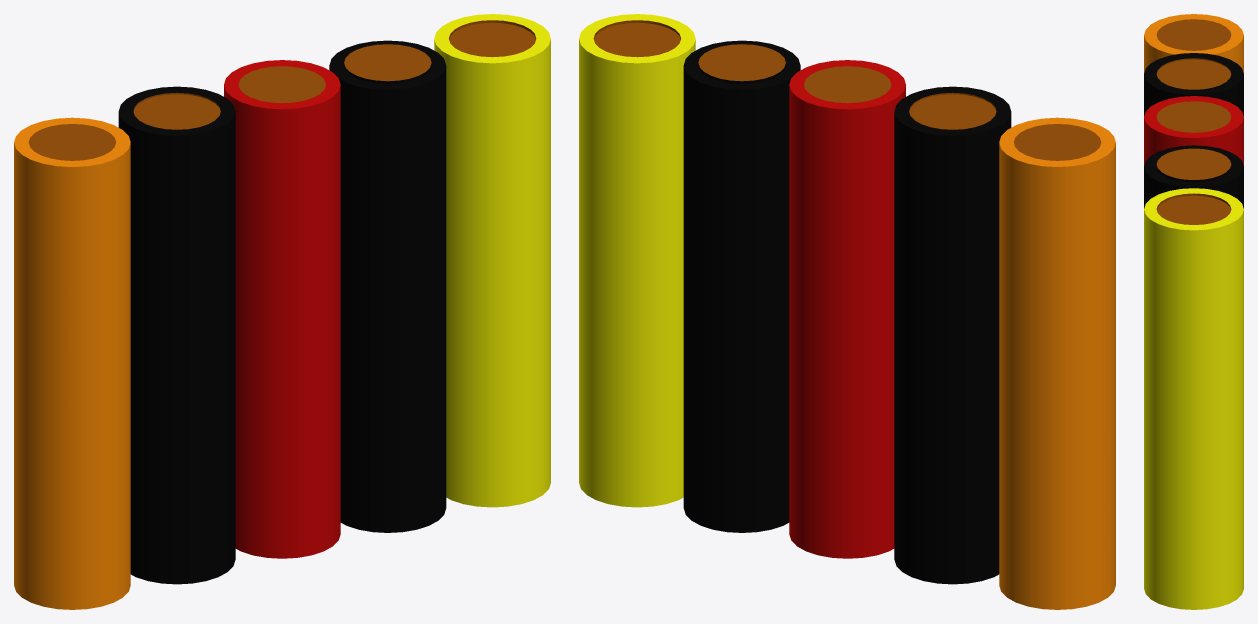
Rendered from SATA+Power+Connector.dae.
3 views of the same model, side by side, from view 1: azimuth 30°, elevation 25°; view 2: azimuth 150°, elevation 25°; view 3: azimuth 270°, elevation 25° (orthographic). The views are drawn at different scales.
Visible parts, largest first — view 1: SketchUp (×10); view 2: SketchUp (×10); view 3: SketchUp (×11).
Boxes of the visible parts, x1,y1,x2,y2 form: SketchUp (×10): (14, 14, 550, 609); SketchUp (×10): (579, 14, 1115, 609); SketchUp (×11): (1144, 14, 1243, 609).
Bounding box in the file's own units: 0.4058 × 0.0787 × 0.3343.
